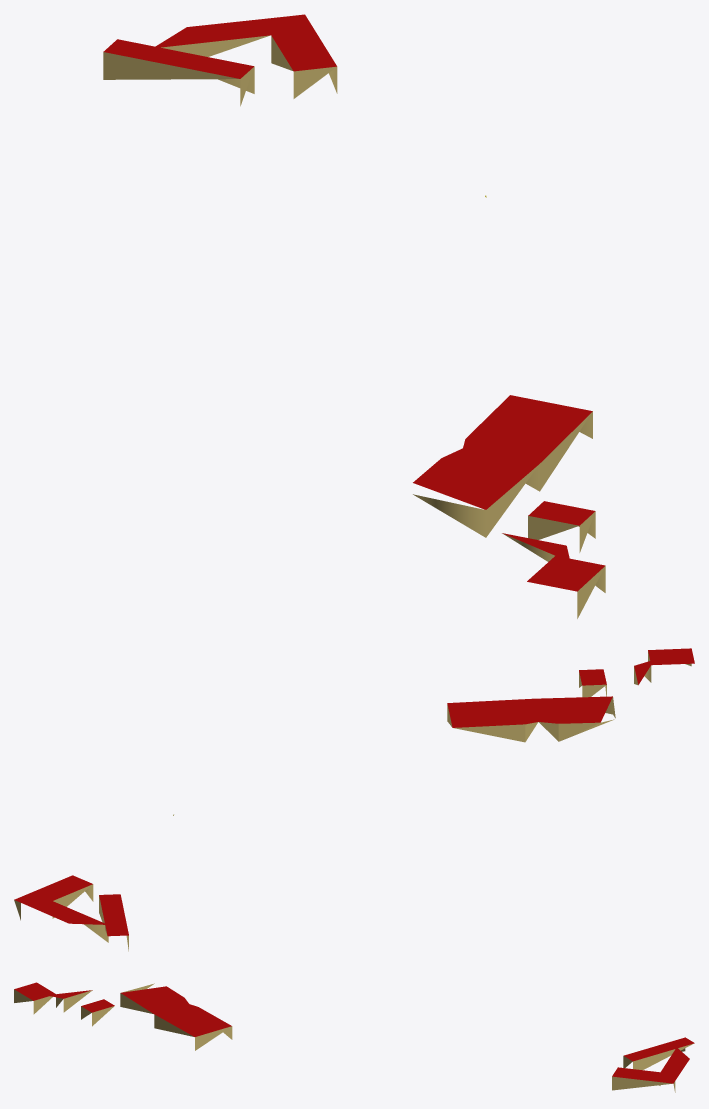
The picture shows the model from 3 angles, top to bottom: view 1: azimuth 30°, elevation 25°; view 2: azimuth 150°, elevation 25°; view 3: azimuth 270°, elevation 25°; orthographic projection. The views are drawn at different scales.
Bounding box in the file's own units: 117 × 7.5 × 331.
